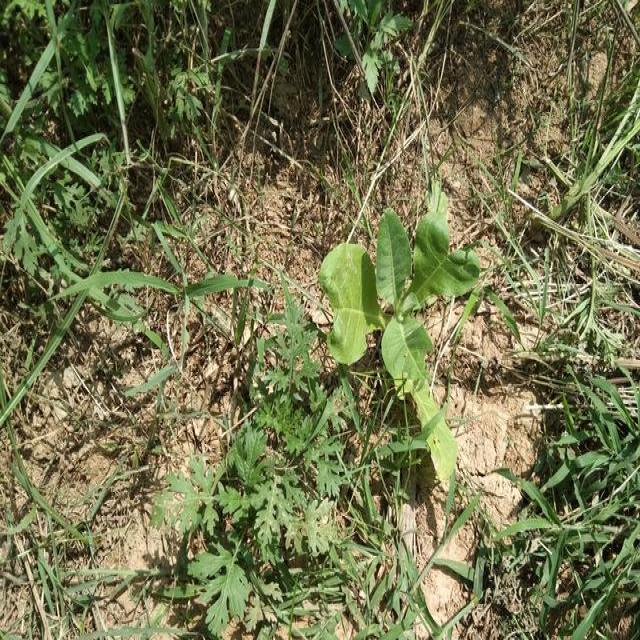crop: (331, 205, 470, 487)
